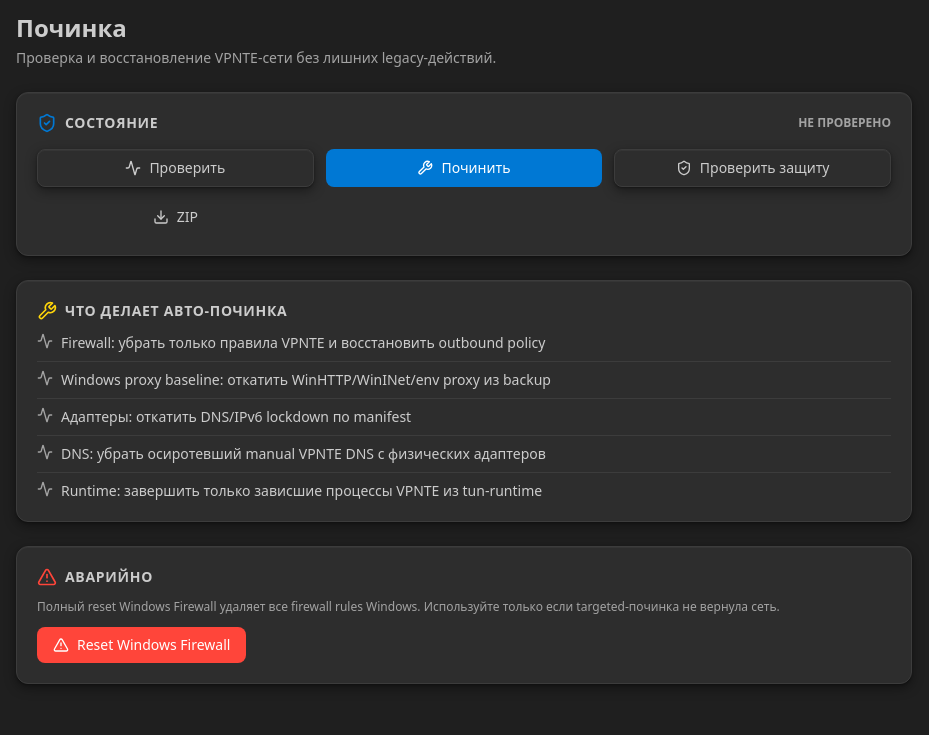
diagnostics ZIP UI ownership › maintenance finishes current export, reports cleanup warning and forgets its token
Step 1. Click the button "ZIP" → (175, 217), box [37,199,314,235]
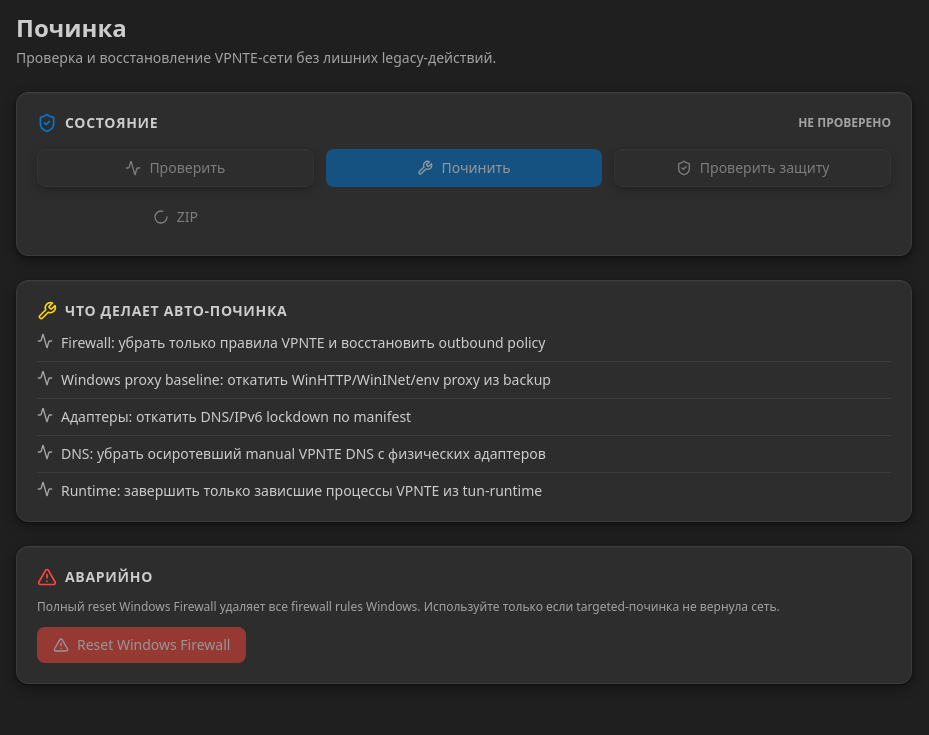
Step 2. Click the button "ZIP" → (175, 217), box [37,199,314,235]
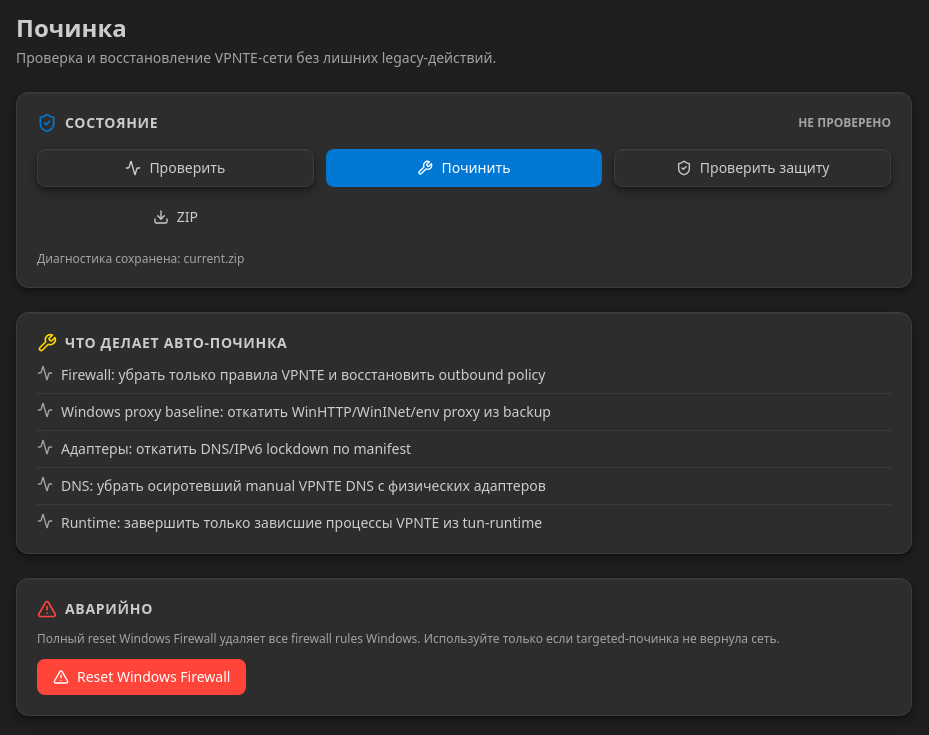
Now the text "Диагностика сохранена: current.zip" is shown, box [37,250,244,267]
